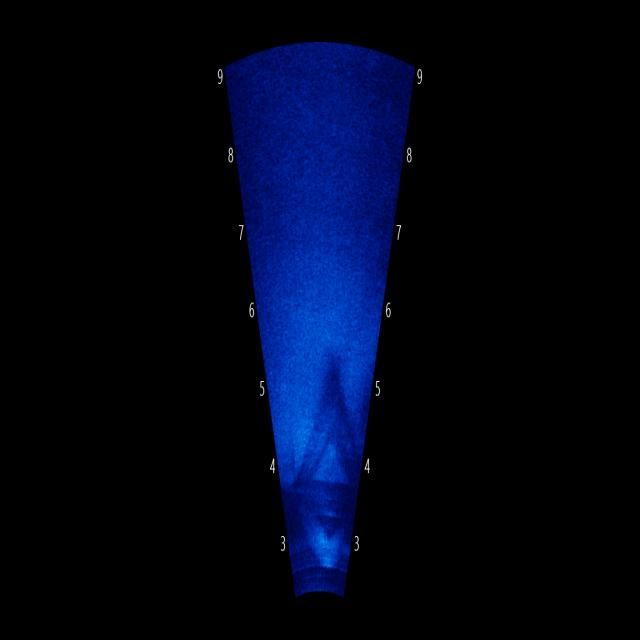triangle: (292, 340, 353, 536)
